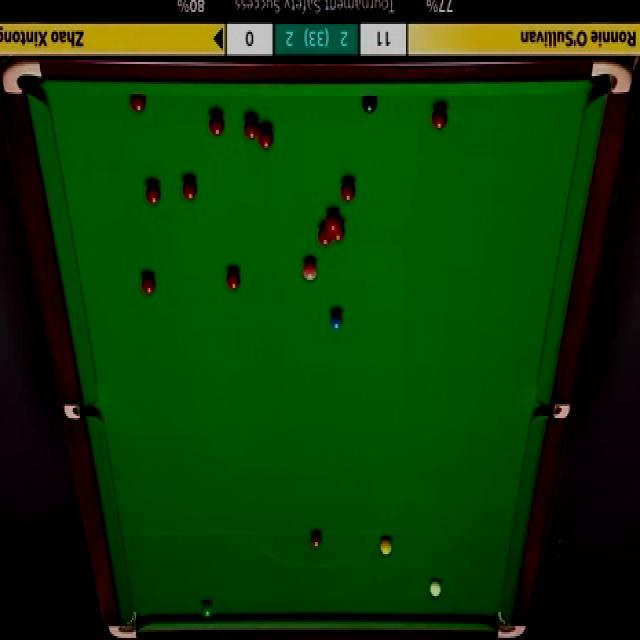black-ball: (360, 94, 378, 115)
blue-ball: (328, 311, 344, 332)
brown-ball: (310, 532, 322, 552)
green-ball: (201, 600, 214, 618)
pink-ball: (301, 256, 318, 281)
red-ball: (180, 176, 198, 202), (243, 114, 259, 143), (432, 105, 449, 132), (225, 267, 242, 294), (208, 110, 225, 136), (258, 124, 274, 150), (144, 182, 160, 206), (341, 178, 357, 202), (142, 271, 156, 296), (332, 218, 346, 242), (318, 222, 331, 246), (129, 97, 147, 114), (324, 210, 340, 229)
white-ball: (429, 578, 442, 599)
yellow-ball: (381, 538, 393, 554)
